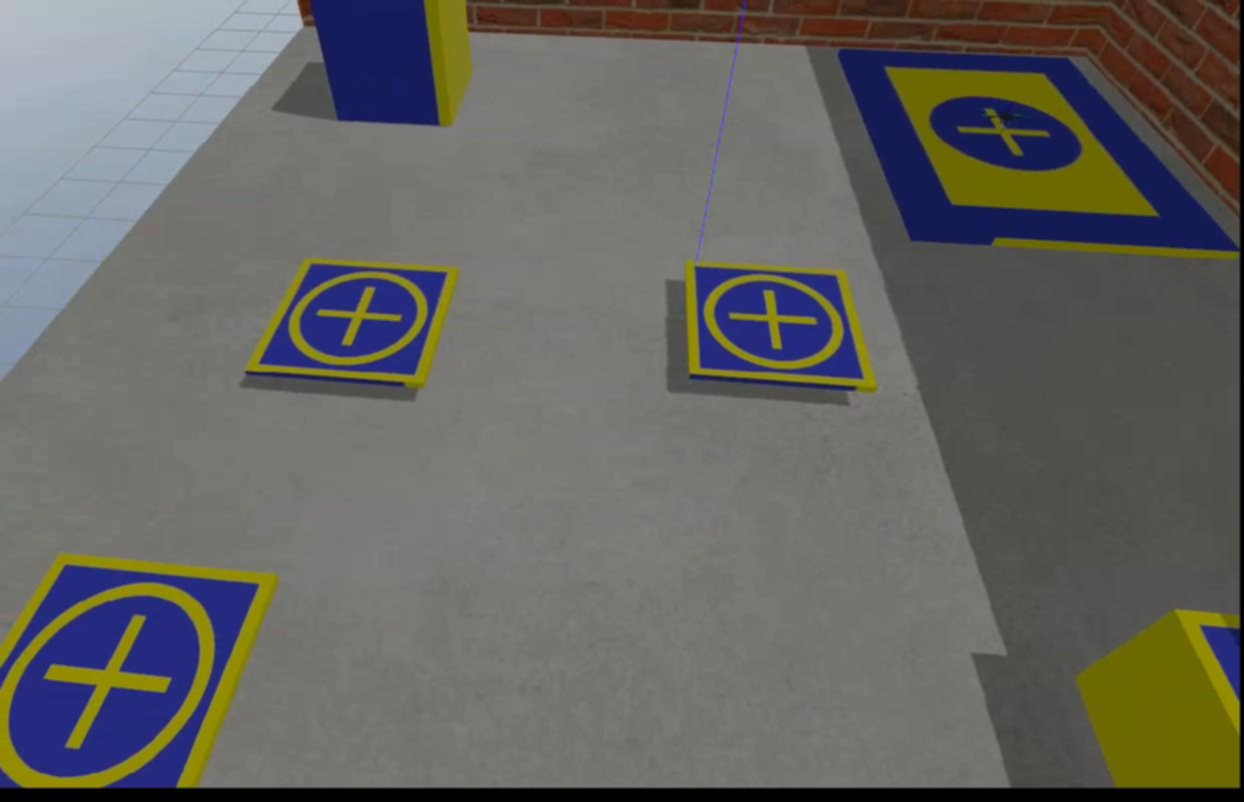large_base: (840, 45, 1236, 263)
small_base: (0, 549, 280, 787), (242, 245, 460, 394), (683, 258, 881, 398)
